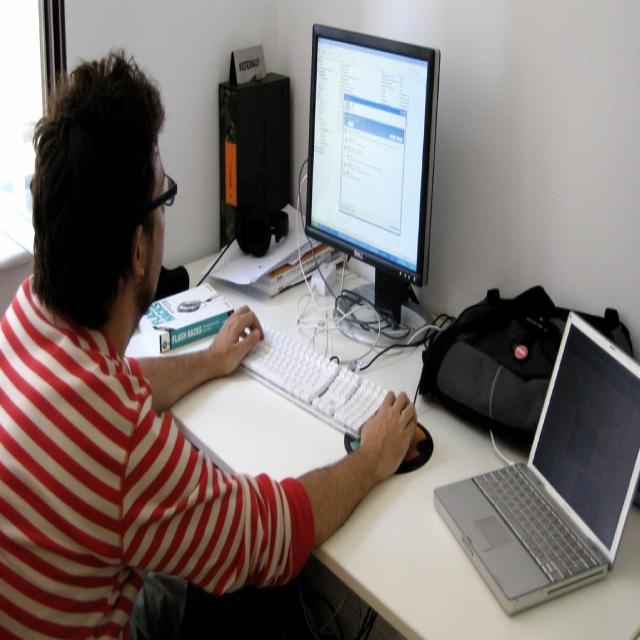desk: (122, 247, 640, 639)
keyboard: (240, 318, 421, 446)
laptop: (430, 308, 640, 618)
person: (0, 43, 414, 640)
tv: (306, 25, 440, 288)
